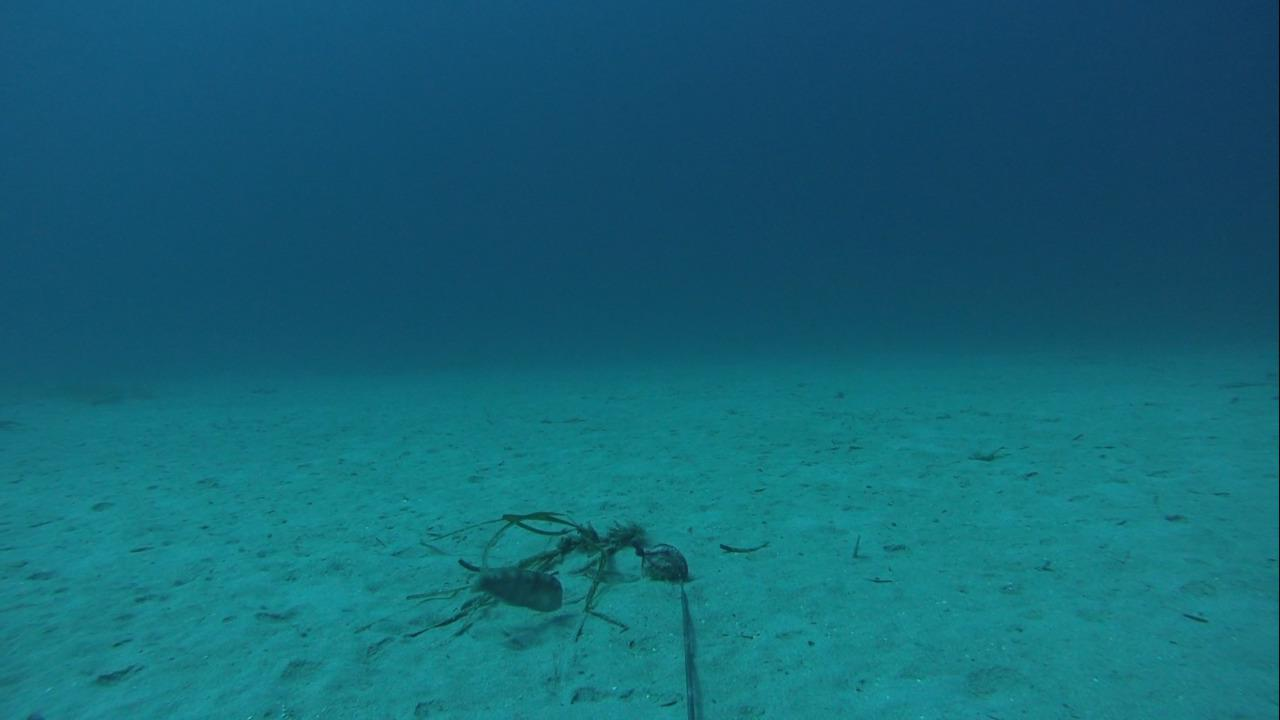raor: (464, 563, 567, 615)
